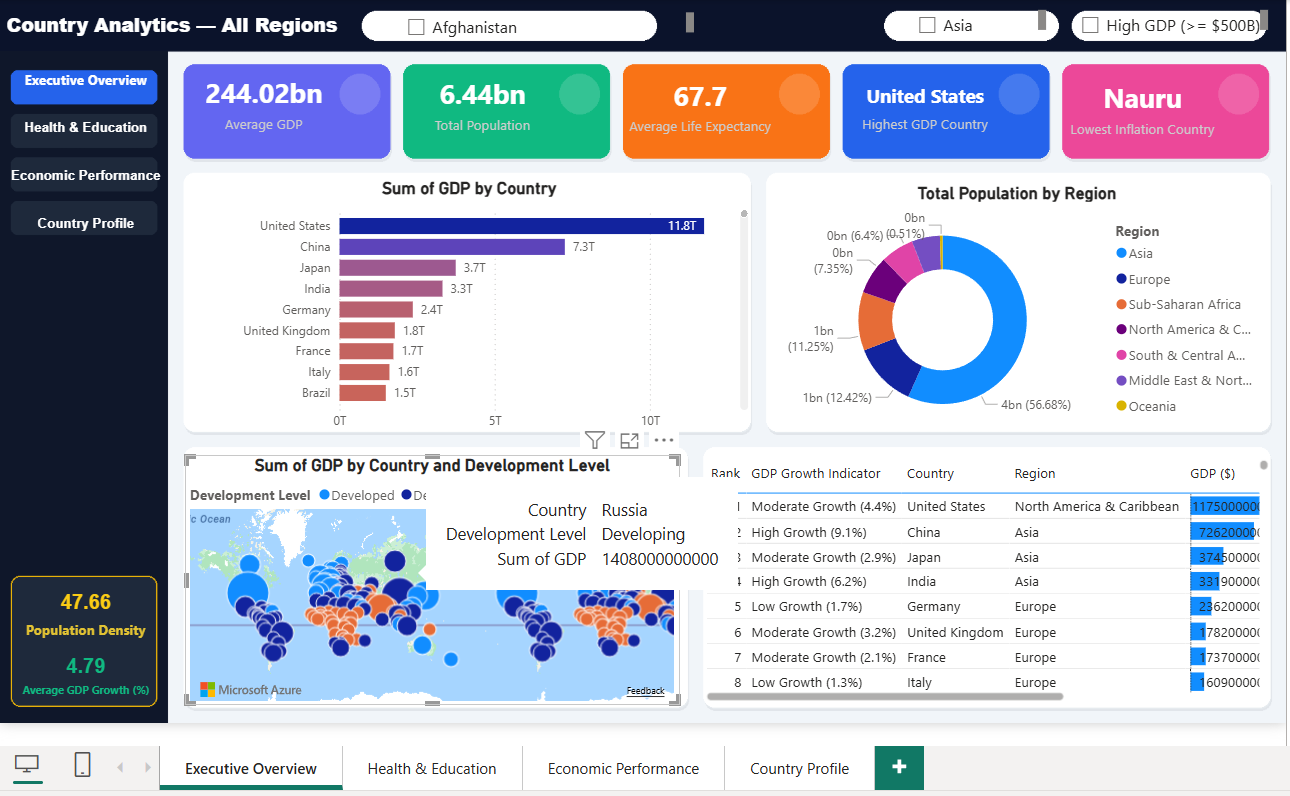

This screenshot's page, from the dashboard's own definition file:
{"tool":"powerbi","page":{"name":"Executive Overview","canvas":[1280,720],"ordinal":0},"visuals":[{"type":"card","fields":{"Values":["_Measures.Dynamic Dashboard Title"]},"box":[0,0,342.5,52.5],"z":0},{"type":"slicer","fields":{"Values":["Countries.Country"]},"box":[393.3,7.2,302.8,41],"z":1000},{"type":"slicer","fields":{"Values":["Countries.Region"]},"box":[902.5,5,144.2,41.7],"z":2000},{"type":"slicer","fields":{"Values":["Countries.GDP Category"]},"box":[1063.3,5.6,203.3,41.1],"z":3000},{"type":"card","fields":{"Values":["_Measures.Average GDP"]},"box":[171.1,27.8,182.2,150],"z":4000},{"type":"card","fields":{"Values":["_Measures.Total Population"]},"box":[390,28.9,182.2,150],"z":5000},{"type":"card","fields":{"Values":["_Measures.Average Life Expectancy"]},"box":[605.6,30,182.2,150],"z":6000},{"type":"card","fields":{"Values":["_Measures.Highest GDP Country"]},"box":[830,31.1,182.2,150],"z":7000},{"type":"card","fields":{"Values":["_Measures.Lowest Inflation Country"]},"box":[1046.7,32.2,182.2,150],"z":8000},{"type":"clusteredBarChart","fields":{"Category":["Countries.Country"],"Y":["Sum(Countries.GDP)"]},"box":[184.6,176.1,565.8,260.6],"z":9000},{"type":"donutChart","fields":{"Category":["Countries.Region"],"Y":["_Measures.Total Population"]},"box":[761.3,182.2,501.9,254.6],"z":10000},{"type":"azureMap","fields":{"Category":["Countries.Country"],"Series":["Countries.Development Level"],"Size":["Sum(Countries.GDP)"]},"box":[184.6,452.4,492.2,249.7],"z":11000},{"type":"tableEx","fields":{"Values":["_Measures.Country GDP Rank","_Measures.GDP Growth Indicator","Countries.Country","Countries.Region","Sum(Countries.GDP)","Sum(Countries.GDP_Per_Capita)","Countries.Growth Indicator Category"]},"box":[696.1,452.4,570.6,249.7],"z":12000},{"type":"pageNavigator","box":[0,67.1,171.4,168.6],"z":13000},{"type":"card","fields":{"Values":["_Measures.Population Density"]},"box":[0,577.1,171.4,64.3],"z":13001},{"type":"card","fields":{"Values":["_Measures.Average GDP Growth (%)"]},"box":[0,638.6,171.4,64.3],"z":13002}]}

Visuals, with their boxes on the page's 1280x720 design canvas (x1, y1, x2, y2). These are canvas units, not pixel positions in the 1290x796 screenshot, which may show the page scaled, cropped or inside an application window:
card - _Measures.Dynamic Dashboard Title: 0,0,342,52
slicer - Countries.Country: 393,7,696,48
slicer - Countries.Region: 902,5,1047,47
slicer - Countries.GDP Category: 1063,6,1267,47
card - _Measures.Average GDP: 171,28,353,178
card - _Measures.Total Population: 390,29,572,179
card - _Measures.Average Life Expectancy: 606,30,788,180
card - _Measures.Highest GDP Country: 830,31,1012,181
card - _Measures.Lowest Inflation Country: 1047,32,1229,182
clusteredBarChart - Countries.Country x Sum(Countries.GDP): 185,176,750,437
donutChart - Countries.Region x _Measures.Total Population: 761,182,1263,437
azureMap - Countries.Country x Countries.Development Level: 185,452,677,702
tableEx - _Measures.Country GDP Rank x _Measures.GDP Growth Indicator: 696,452,1267,702
pageNavigator: 0,67,171,236
card - _Measures.Population Density: 0,577,171,641
card - _Measures.Average GDP Growth (%): 0,639,171,703
